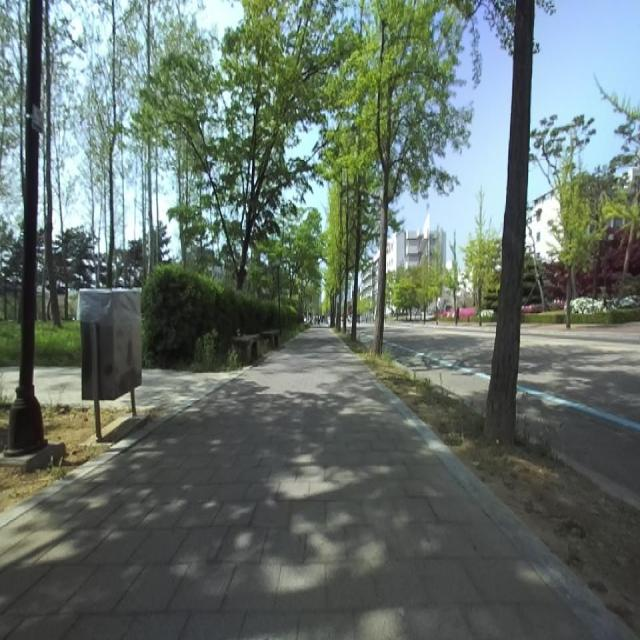sidewalk: (0, 327, 634, 639), (136, 369, 227, 411), (34, 366, 80, 406), (0, 367, 18, 397), (100, 393, 130, 408)
